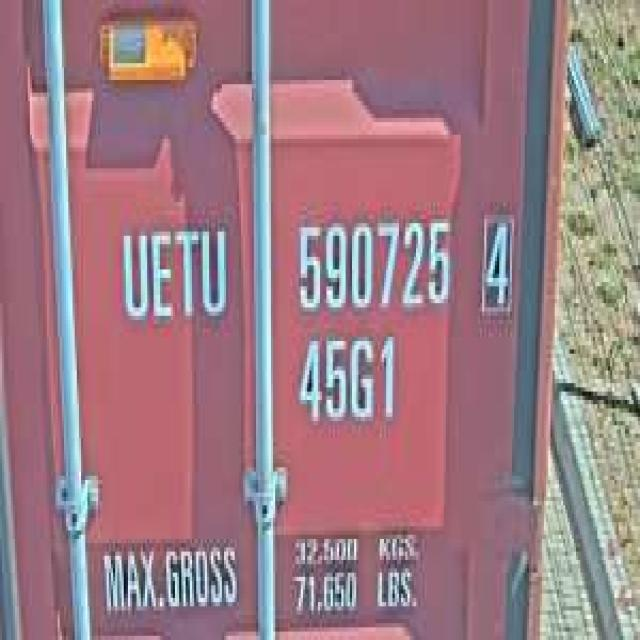dv: (476, 206, 518, 320)
owner: (118, 215, 232, 332)
serial: (290, 202, 455, 320)
size: (292, 328, 401, 434)
